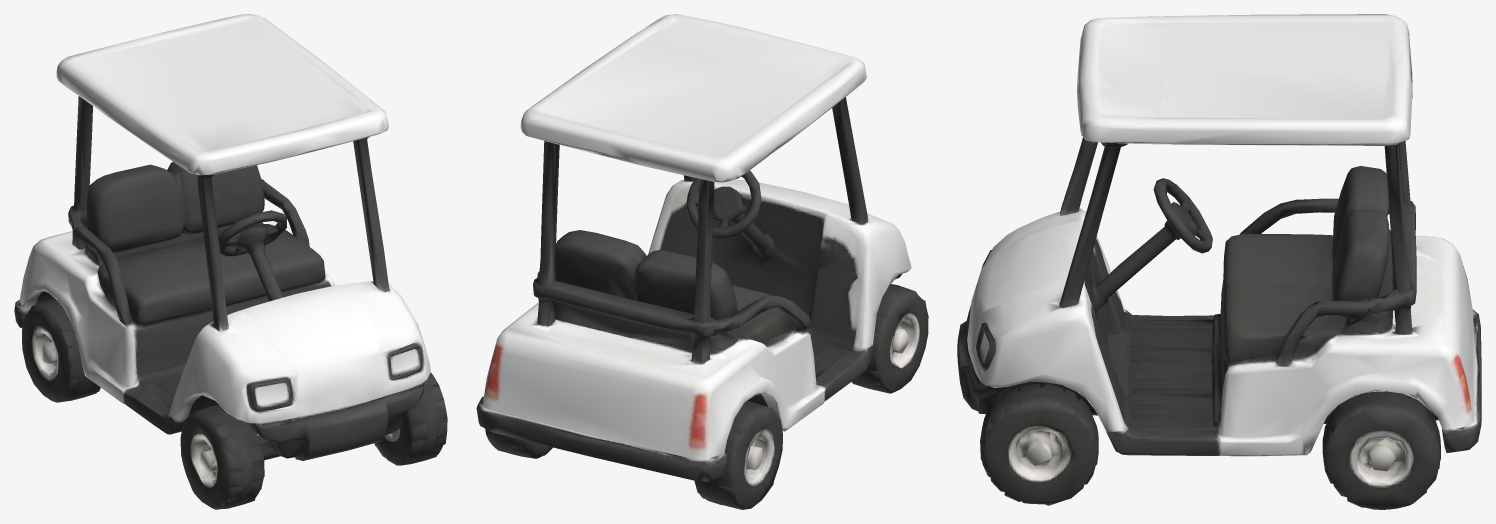
File: golfcart.glb
The picture shows the model from 3 angles, left to right: view 1: azimuth 30°, elevation 25°; view 2: azimuth 150°, elevation 25°; view 3: azimuth 270°, elevation 25°; orthographic projection. The views are drawn at different scales.
Parts seen in each view (by area): view 1: golfcart-node; view 2: golfcart-node; view 3: golfcart-node.
Part boxes in pixels (x1,y1,x2,y2): golfcart-node: [14, 14, 447, 509]; golfcart-node: [476, 14, 928, 509]; golfcart-node: [957, 14, 1481, 509].
Size of the model in its own units: 0.7661 by 1 by 1.25.
Materials: 1 (1 with a texture image).
